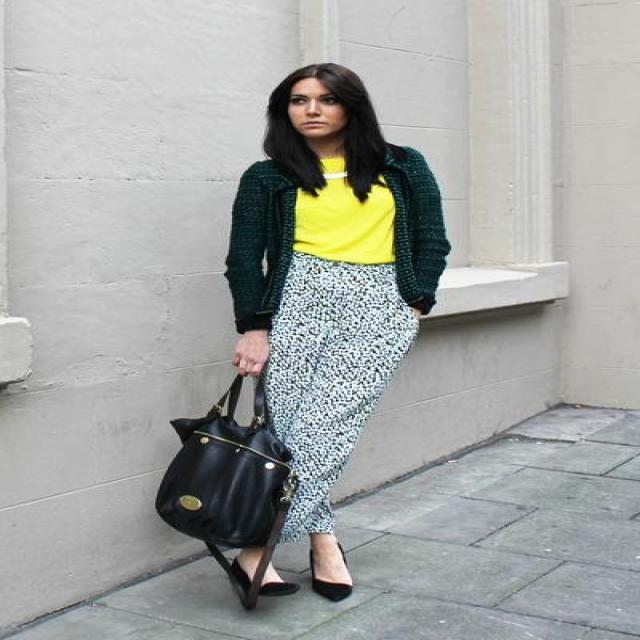bag: (155, 362, 309, 547)
jacket: (224, 145, 450, 333)
pants: (234, 253, 427, 549)
shirt: (292, 156, 393, 263)
shoe: (310, 576, 350, 602)
